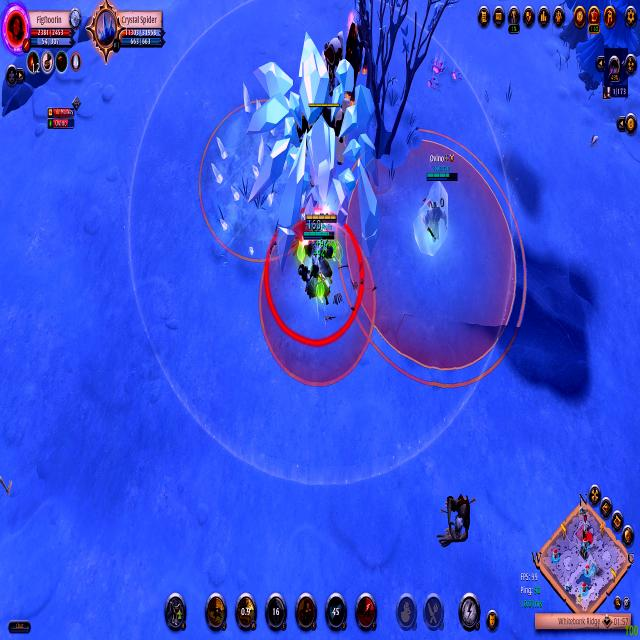ore: (248, 61, 388, 253), (436, 488, 477, 555)
red: (422, 147, 461, 250), (302, 225, 338, 313), (302, 214, 336, 286)
silver: (331, 122, 531, 392), (197, 95, 325, 265), (259, 218, 377, 390)
